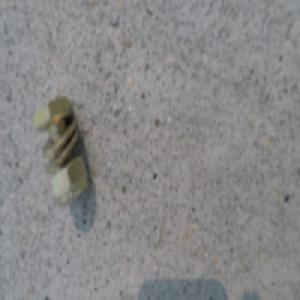BoltNutSet: (51, 104, 103, 210)
